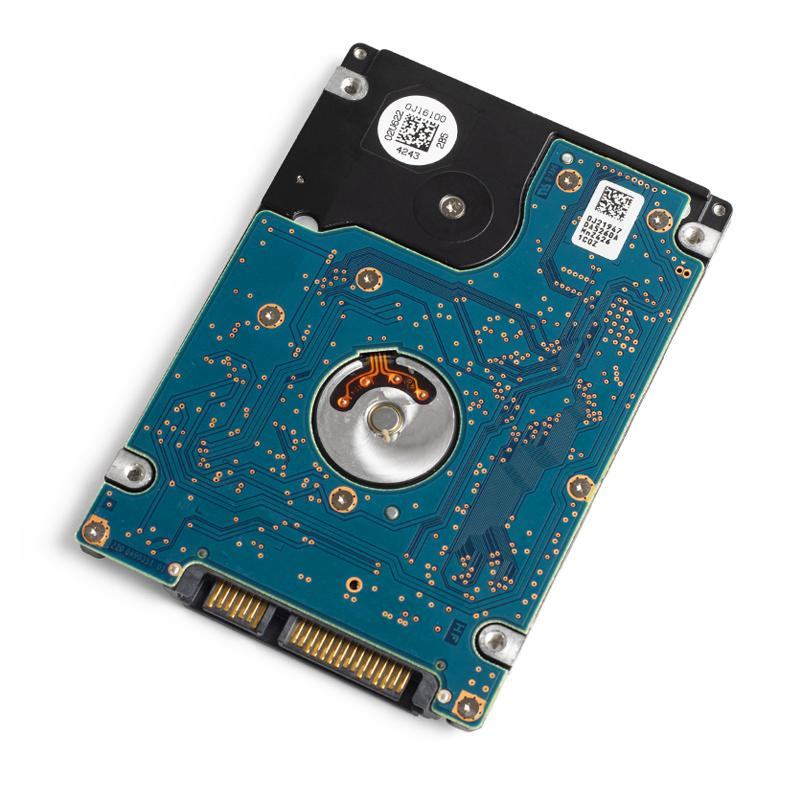internal HDD: (73, 45, 734, 733)
